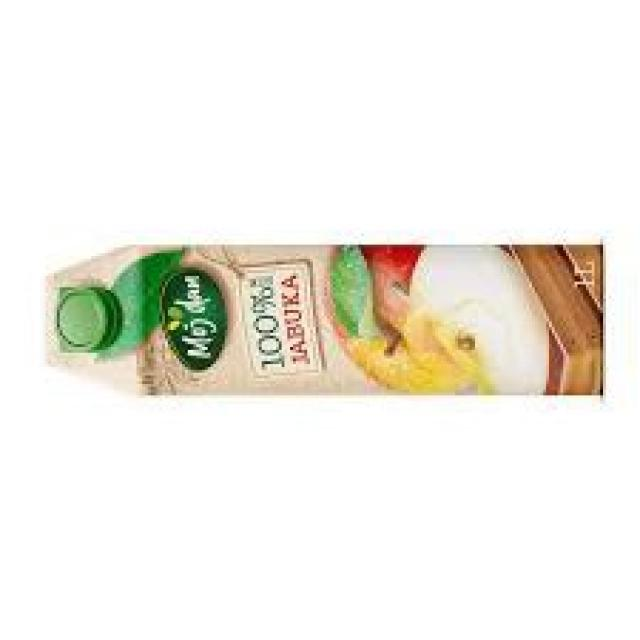non_white_jug: (42, 240, 610, 402)
